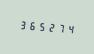five: (36, 19, 44, 33)
four: (63, 21, 71, 36)
seven: (54, 20, 62, 35)
six: (26, 18, 34, 32)
three: (17, 17, 25, 32)
two: (45, 19, 53, 34)
